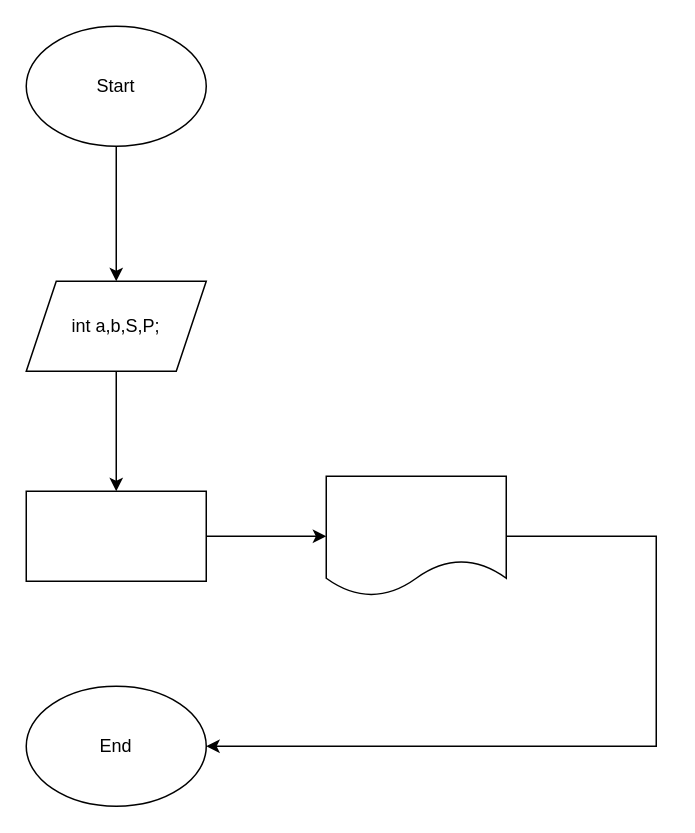
Some shapes in this 695 by 833 pixel diagram are drawn without their labels. Here are the shapes that lost their labels. From the top down, the box of each, then its label:
(25, 490, 206, 581): S = a*b P = 2(a +b)
(325, 475, 506, 596): print S print P
